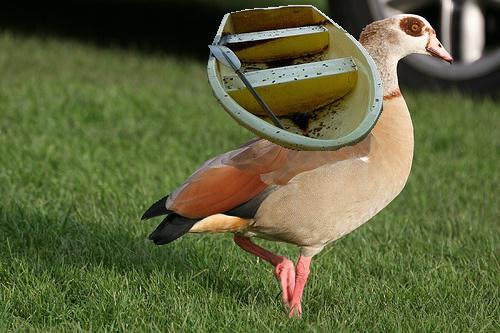tampered: (208, 6, 383, 151)
